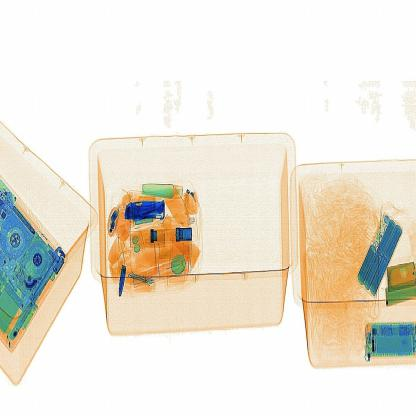knife: (116, 195, 173, 225)
